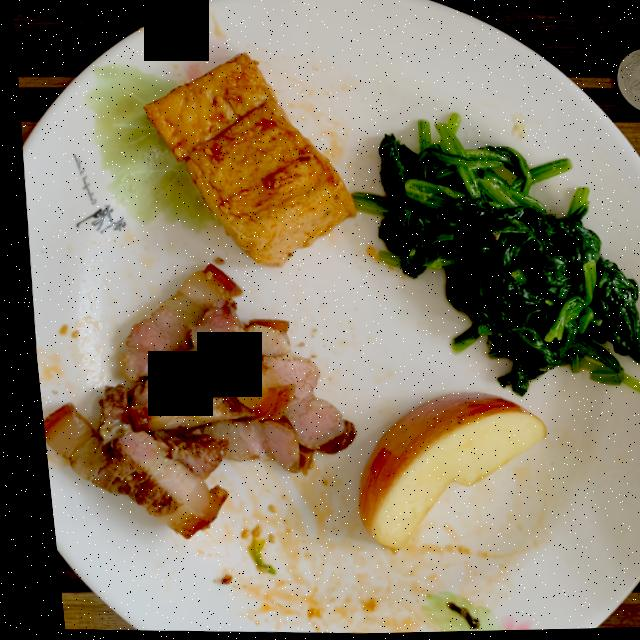apple -sliced-: (347, 394, 536, 550)
coin: (612, 51, 640, 114)
creamy tofu: (140, 54, 350, 267)
grilled pork: (34, 266, 344, 538)
mustard greens: (348, 116, 640, 399)
